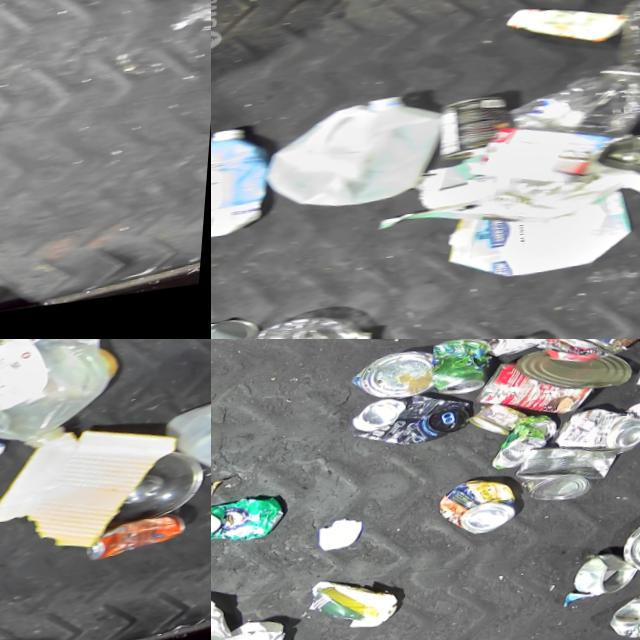can: (478, 357, 602, 433), (353, 391, 477, 457), (519, 444, 629, 514), (518, 346, 639, 406), (442, 480, 526, 545), (439, 99, 512, 167), (353, 352, 440, 409), (94, 523, 196, 571), (558, 410, 640, 469), (596, 125, 640, 228), (211, 495, 292, 549), (432, 342, 499, 404), (495, 421, 565, 477), (581, 557, 640, 606), (463, 339, 552, 368), (472, 406, 534, 447), (565, 339, 640, 370), (211, 314, 269, 339)
milk_jug: (266, 93, 452, 218), (0, 339, 126, 472), (163, 401, 211, 500)
non_white_jug: (211, 123, 278, 241)
plastic_bottle: (505, 66, 640, 207), (244, 308, 396, 339), (614, 0, 640, 122)
